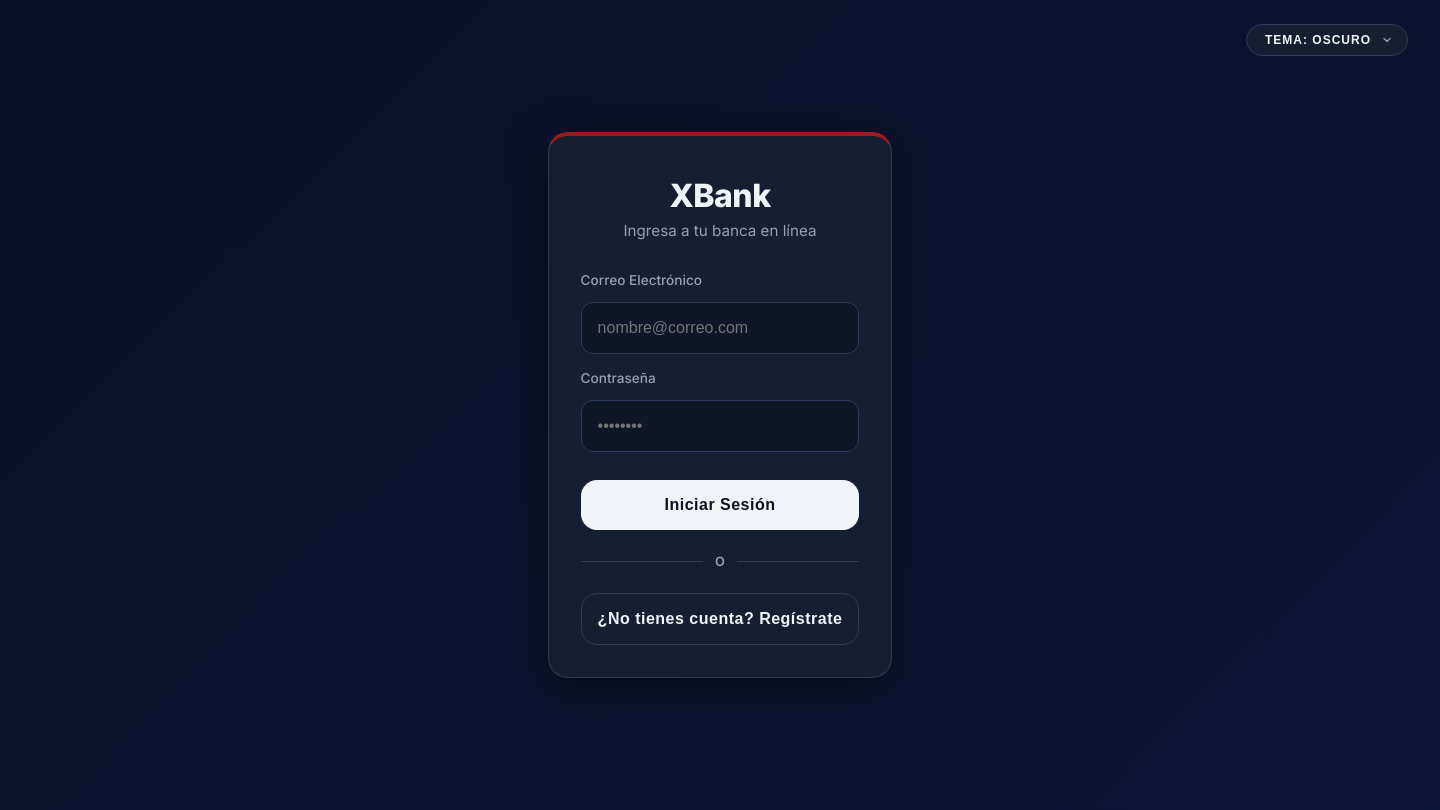
Test: Componente Login › muestra mensaje de error si se intenta enviar el formulario con campos vacíos
Click the button "Iniciar Sesión". click: [720, 505]
box: [581,480,859,530]
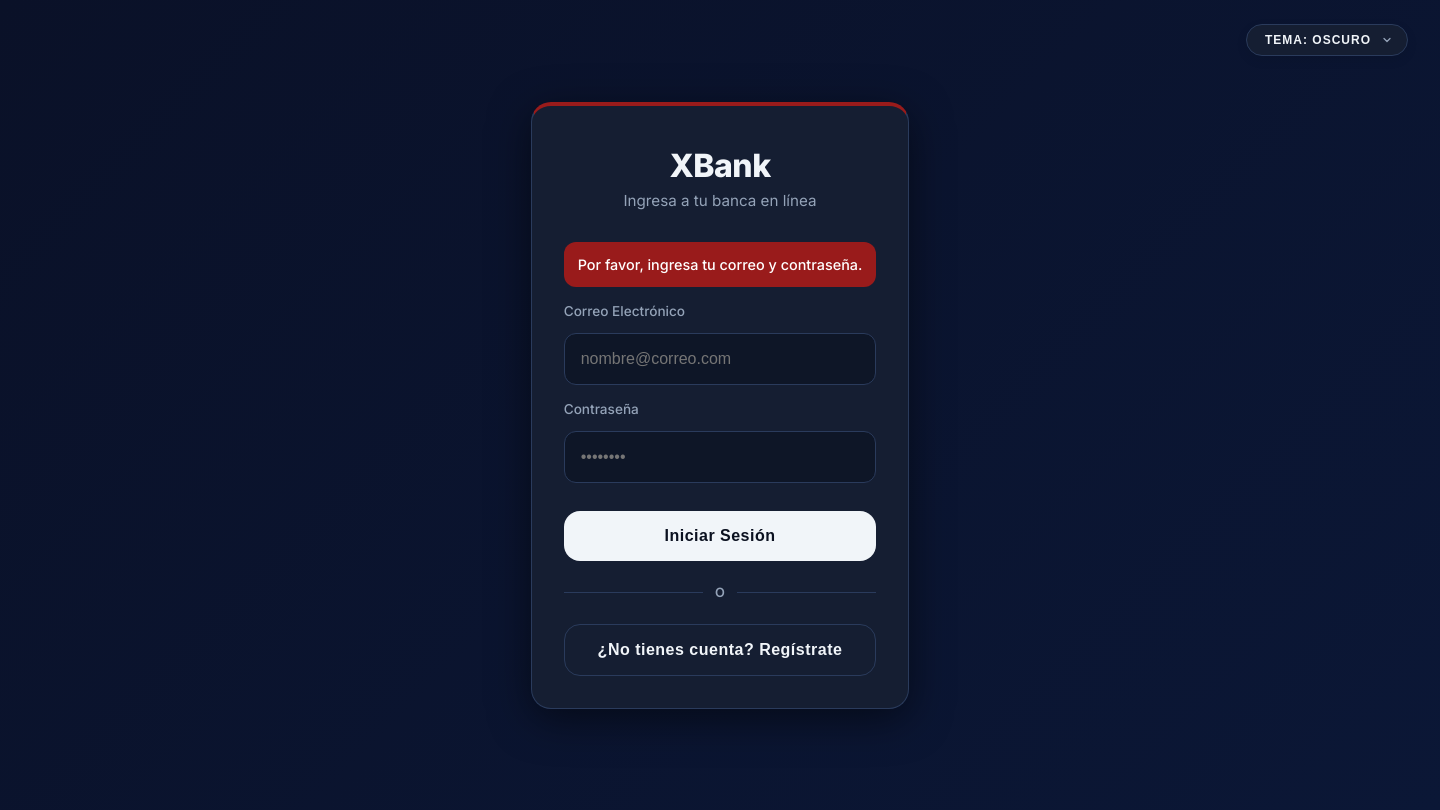
Expected: the text "Por favor, ingresa tu correo y contraseña." is shown, [564,242,876,286]
